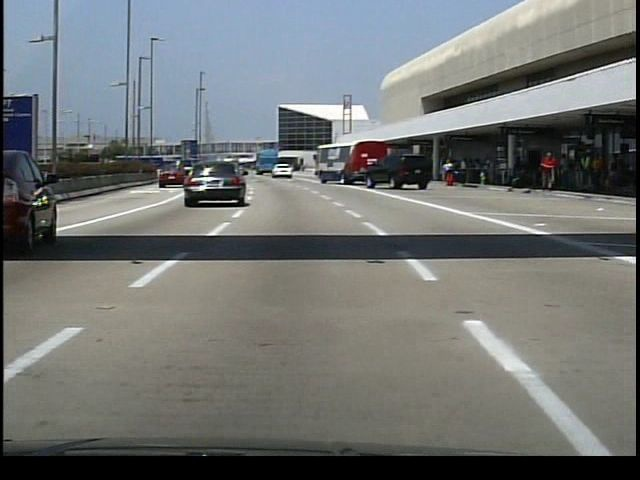person: (534, 148, 559, 193), (604, 155, 621, 193), (579, 150, 591, 191), (442, 158, 457, 188)
